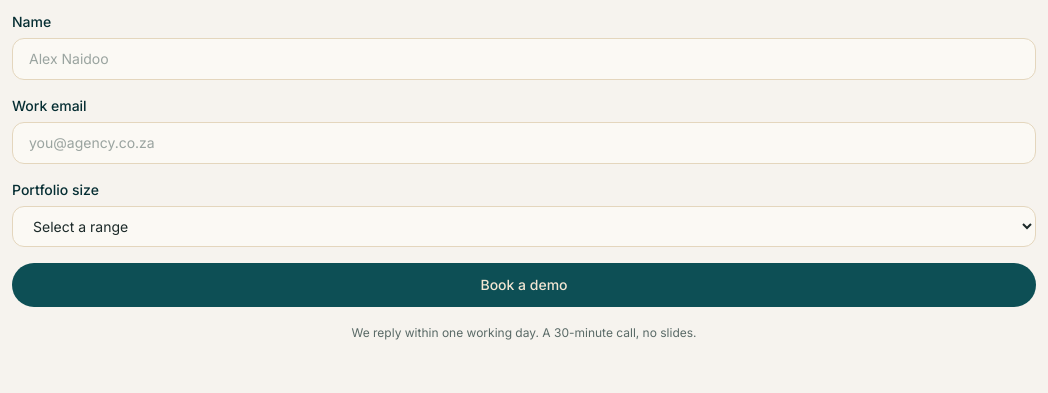
LeadForm › surfaces server errors and keeps the form usable
Type "Thandi M" into the field labelled "Name".
click(524, 59); type("Thandi M")  # box top-left (12, 38), bottom-right (1036, 80)
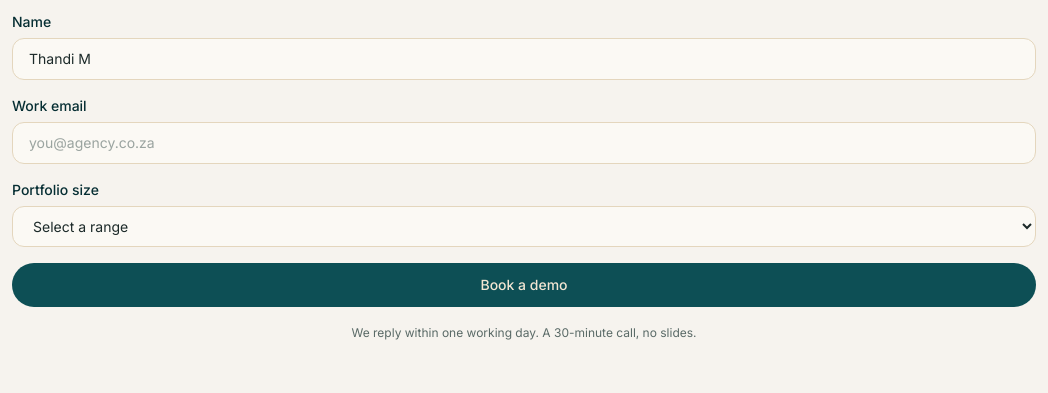
Type "thandi@agency.co.za" into the field labelled "Work email".
click(524, 143); type("thandi@agency.co.za")  # box top-left (12, 122), bottom-right (1036, 164)
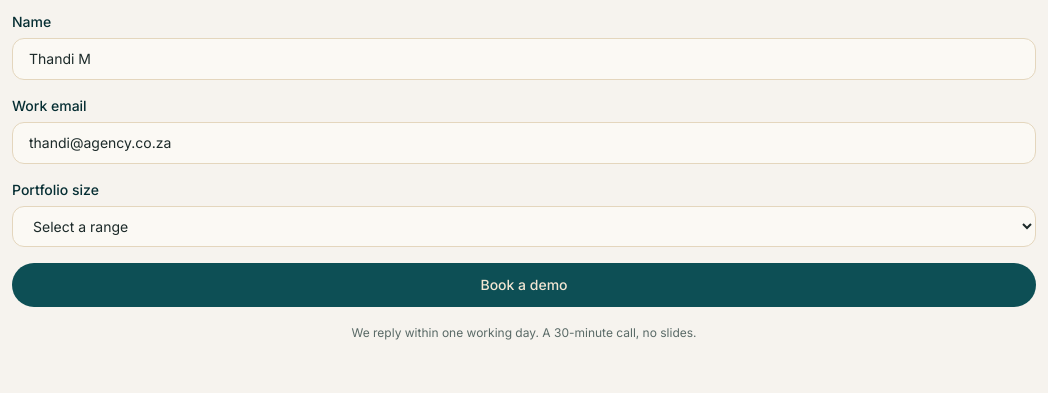
Select "80 to 250 properties" in the dropdown labelled "Portfolio size" at (524, 226), box top-left (12, 206), bottom-right (1036, 247)
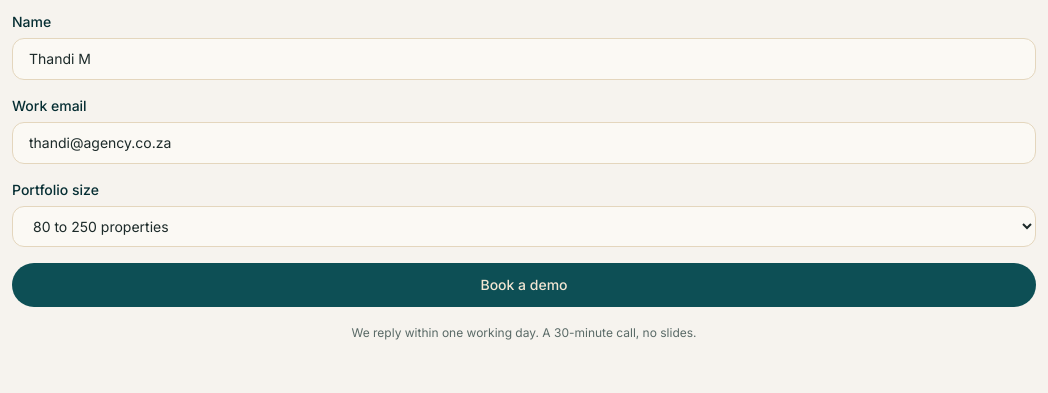
Submit the form "Book a demo"
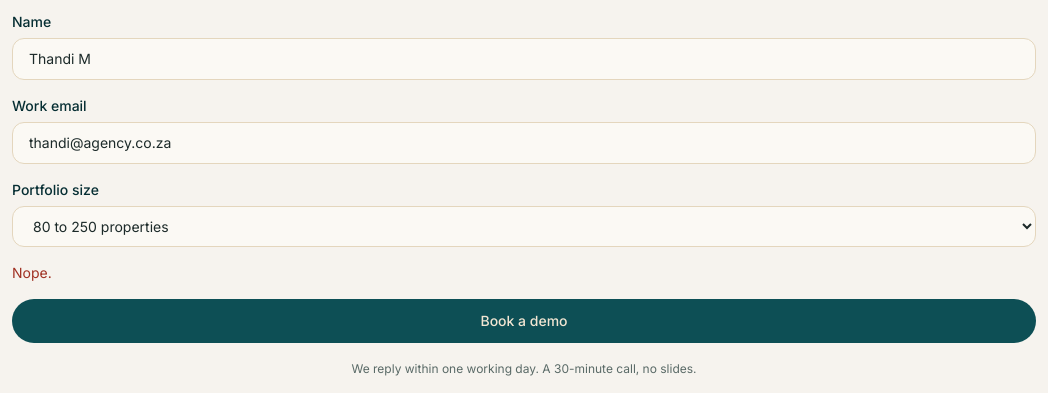
Expected: the button "Book a demo" is enabled, top-left (12, 299), bottom-right (1036, 343)
Result: the message reads "Nope." at top-left (12, 264), bottom-right (52, 281)
